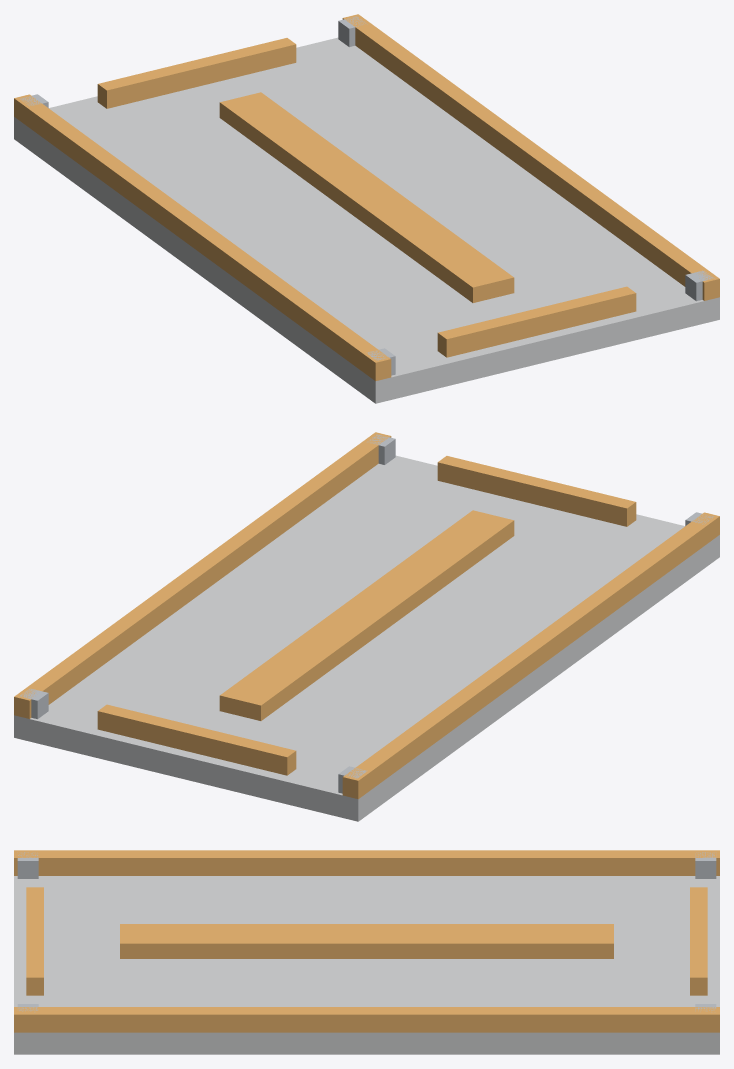
3 views of the same model, one above another, from view 1: azimuth 30°, elevation 25°; view 2: azimuth 150°, elevation 25°; view 3: azimuth 270°, elevation 25° (orthographic). The views are drawn at different scales.
Visible parts, largest first — view 1: pad, markings, bollards; view 2: pad, markings, bollards; view 3: pad, markings, bollards.
Part boxes in pixels (x1,y1,x2,y2): pad: [14, 37, 719, 403]; markings: [14, 14, 719, 381]; bollards: [20, 16, 714, 375]; pad: [14, 455, 719, 821]; markings: [14, 432, 719, 799]; bollards: [20, 434, 714, 793]; pad: [14, 876, 719, 1054]; markings: [14, 850, 719, 1032]; bollards: [17, 852, 716, 1012].
Bounding box in the file's own units: 2.2 × 0.25 × 4.
